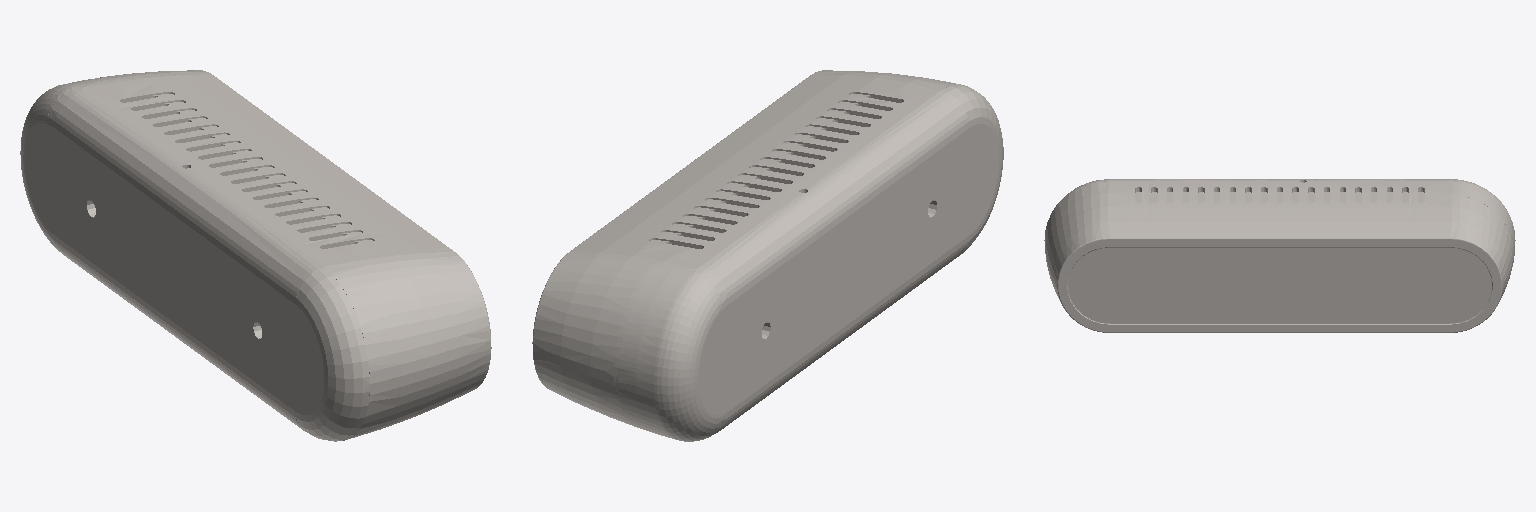
robot.urdf — omove:
<?xml version="1.0" encoding="utf-8"?>
<!-- This URDF was automatically created by SolidWorks to URDF Exporter! Originally created by [author] ([email redacted]) 
     Commit Version: 1.5.1-0-g916b5db  Build Version: 1.5.7152.31018
     For more information, please see http://wiki.ros.org/sw_urdf_exporter -->
<robot name="omove">
  <link name="base_footprint" />
  <joint name="base_joint" type="fixed">
    <parent link="base_footprint" />
    <child link="base_link" />
    <origin rpy="0 0 0" xyz="0 0 0" />
  </joint>

  <link
    name="base_link">
    <inertial>
      <origin
        xyz="0.0021031 0.00024334 0.023555"
        rpy="0 0 0" />
      <mass
        value="8.9957" />
      <inertia
        ixx="0.0064797"
        ixy="2.6634E-06"
        ixz="3.4878E-07"
        iyy="0.03319"
        iyz="-4.9172E-07"
        izz="0.038203" />
    </inertial>
    <visual>
      <origin
        xyz="0 0 0"
        rpy="0 0 0" />
      <geometry>
        <mesh
          filename="package://cartographer_ros/urdf/meshes/base_link.STL" />
      </geometry>
      <material
        name="">
        <color
          rgba="0.75294 0.75294 0.75294 1" />
      </material>
    </visual>
    <collision>
      <origin
        xyz="0 0 0"
        rpy="0 0 0" />
      <geometry>
        <mesh
          filename="package://cartographer_ros/urdf/meshes/base_link.STL" />
      </geometry>
    </collision>
  </link>
  <link
    name="wheel_link_LF">
    <inertial>
      <origin
        xyz="1.0213E-06 -0.0017375 1.8674E-07"
        rpy="0 0 0" />
      <mass
        value="0.28002" />
      <inertia
        ixx="0.00017252"
        ixy="-5.7605E-12"
        ixz="-3.1448E-09"
        iyy="0.00031502"
        iyz="-1.1987E-10"
        izz="0.00017252" />
    </inertial>
    <visual>
      <origin
        xyz="0 0 0"
        rpy="0 0 0" />
      <geometry>
        <mesh
          filename="package://cartographer_ros/urdf/meshes/wheel_link_LF.STL" />
      </geometry>
      <material
        name="">
        <color
          rgba="0.75294 0.75294 0.75294 1" />
      </material>
    </visual>
    <collision>
      <origin
        xyz="0 0 0"
        rpy="0 0 0" />
      <geometry>
        <mesh
          filename="package://cartographer_ros/urdf/meshes/wheel_link_LF.STL" />
      </geometry>
    </collision>
  </link>
  <joint
    name="wheel_joint_LF"
    type="continuous">
    <origin
      xyz="0.175 0.15542 0.012"
      rpy="0 0 0" />
    <parent
      link="base_link" />
    <child
      link="wheel_link_LF" />
    <axis
      xyz="0 1 0" />
  </joint>
  <link
    name="wheel_link_RF">
    <inertial>
      <origin
        xyz="6.7443E-07 0.0017375 -8.1952E-07"
        rpy="0 0 0" />
      <mass
        value="0.28002" />
      <inertia
        ixx="0.00017252"
        ixy="-6.0255E-11"
        ixz="-2.6815E-09"
        iyy="0.00031502"
        iyz="-6.2048E-11"
        izz="0.00017252" />
    </inertial>
    <visual>
      <origin
        xyz="0 0 0"
        rpy="0 0 0" />
      <geometry>
        <mesh
          filename="package://cartographer_ros/urdf/meshes/wheel_link_RF.STL" />
      </geometry>
      <material
        name="">
        <color
          rgba="0.75294 0.75294 0.75294 1" />
      </material>
    </visual>
    <collision>
      <origin
        xyz="0 0 0"
        rpy="0 0 0" />
      <geometry>
        <mesh
          filename="package://cartographer_ros/urdf/meshes/wheel_link_RF.STL" />
      </geometry>
    </collision>
  </link>
  <joint
    name="wheel_joint_RF"
    type="continuous">
    <origin
      xyz="0.175 -0.15542 0.012"
      rpy="0 0 0" />
    <parent
      link="base_link" />
    <child
      link="wheel_link_RF" />
    <axis
      xyz="0 -1 0" />
  </joint>
  <link
    name="wheel_link_LB">
    <inertial>
      <origin
        xyz="-5.2916E-07 -0.0017375 -9.5409E-07"
        rpy="0 0 0" />
      <mass
        value="0.28002" />
      <inertia
        ixx="0.00017252"
        ixy="-5.2924E-11"
        ixz="3.3134E-09"
        iyy="0.00031502"
        iyz="3.5498E-11"
        izz="0.00017252" />
    </inertial>
    <visual>
      <origin
        xyz="0 0 0"
        rpy="0 0 0" />
      <geometry>
        <mesh
          filename="package://cartographer_ros/urdf/meshes/wheel_link_LB.STL" />
      </geometry>
      <material
        name="">
        <color
          rgba="0.75294 0.75294 0.75294 1" />
      </material>
    </visual>
    <collision>
      <origin
        xyz="0 0 0"
        rpy="0 0 0" />
      <geometry>
        <mesh
          filename="package://cartographer_ros/urdf/meshes/wheel_link_LB.STL" />
      </geometry>
    </collision>
  </link>
  <joint
    name="wheel_joint_LB"
    type="continuous">
    <origin
      xyz="-0.175 0.15542 0.012"
      rpy="0 0 0" />
    <parent
      link="base_link" />
    <child
      link="wheel_link_LB" />
    <axis
      xyz="0 1 0" />
  </joint>
  <link
    name="wheel_link_RB">
    <inertial>
      <origin
        xyz="8.5335E-07 0.0017375 -5.9736E-07"
        rpy="0 0 0" />
      <mass
        value="0.28002" />
      <inertia
        ixx="0.00017253"
        ixy="-3.3926E-11"
        ixz="4.3758E-11"
        iyy="0.00031502"
        iyz="-1.2838E-10"
        izz="0.00017252" />
    </inertial>
    <visual>
      <origin
        xyz="0 0 0"
        rpy="0 0 0" />
      <geometry>
        <mesh
          filename="package://cartographer_ros/urdf/meshes/wheel_link_RB.STL" />
      </geometry>
      <material
        name="">
        <color
          rgba="0.75294 0.75294 0.75294 1" />
      </material>
    </visual>
    <collision>
      <origin
        xyz="0 0 0"
        rpy="0 0 0" />
      <geometry>
        <mesh
          filename="package://cartographer_ros/urdf/meshes/wheel_link_RB.STL" />
      </geometry>
    </collision>
  </link>
  <joint
    name="wheel_joint_RB"
    type="continuous">
    <origin
      xyz="-0.175 -0.15542 0.012"
      rpy="0 0 0" />
    <parent
      link="base_link" />
    <child
      link="wheel_link_RB" />
    <axis
      xyz="0 -1 0" />
  </joint>
  <link
    name="laser_link">
    <inertial>
      <origin
        xyz="-0.014867 0.0024602 -0.01678"
        rpy="0 0 0" />
      <mass
        value="0.063786" />
      <inertia
        ixx="1.7112E-05"
        ixy="2.8944E-09"
        ixz="4.4587E-07"
        iyy="2.0808E-05"
        iyz="-1.5142E-08"
        izz="3.568E-05" />
    </inertial>
    <visual>
      <origin
        xyz="0 0 0"
        rpy="0 0 0" />
      <geometry>
        <mesh
          filename="package://cartographer_ros/urdf/meshes/laser_link.STL" />
      </geometry>
      <material
        name="">
        <color
          rgba="0.75294 0.75294 0.75294 1" />
      </material>
    </visual>
    <collision>
      <origin
        xyz="0 0 0"
        rpy="0 0 0" />
      <geometry>
        <mesh
          filename="package://cartographer_ros/urdf/meshes/laser_link.STL" />
      </geometry>
    </collision>
  </link>
  <joint
    name="laser_joint"
    type="fixed">
    <origin
      xyz="0.032502 -0.0017362 0.14767"
      rpy="0 0 0" />
    <parent
      link="base_link" />
    <child
      link="laser_link" />
    <axis
      xyz="0 0 0" />
  </joint>
  <link
    name="depth_link">
    <inertial>
      <origin
        xyz="-0.0042269 0.0032377 -0.0020974"
        rpy="0 0 0" />
      <mass
        value="0.04821" />
      <inertia
        ixx="2.7396E-05"
        ixy="-4.2598E-07"
        ixz="7.55E-09"
        iyy="3.3506E-06"
        iyz="2.1149E-09"
        izz="2.6657E-05" />
    </inertial>
    <visual>
      <origin
        xyz="0 0 0"
        rpy="0 0 0" />
      <geometry>
        <mesh
          filename="package://cartographer_ros/urdf/meshes/depth_link.STL" />
      </geometry>
      <material
        name="">
        <color
          rgba="0.77647 0.75686 0.73725 1" />
      </material>
    </visual>
    <collision>
      <origin
        xyz="0 0 0"
        rpy="0 0 0" />
      <geometry>
        <mesh
          filename="package://cartographer_ros/urdf/meshes/depth_link.STL" />
      </geometry>
    </collision>
  </link>
  <joint
    name="depth_joint"
    type="fixed">
    <origin
      xyz="0.18068 -0.0032372 0.13055"
      rpy="0 0 0" />
    <parent
      link="base_link" />
    <child
      link="depth_link" />
    <axis
      xyz="0 0 0" />
  </joint>
  <link
    name="imu_link">
    <inertial>
      <origin
        xyz="0.026867 -7.317E-05 -0.0012683"
        rpy="0 0 0" />
      <mass
        value="0.013291" />
      <inertia
        ixx="3.4375E-06"
        ixy="3.7116E-08"
        ixz="-6.3445E-11"
        iyy="5.1704E-06"
        iyz="-3.602E-12"
        izz="8.5546E-06" />
    </inertial>
    <visual>
      <origin
        xyz="0 0 0"
        rpy="0 0 0" />
      <geometry>
        <mesh
          filename="package://cartographer_ros/urdf/meshes/imu_link.STL" />
      </geometry>
      <material
        name="">
        <color
          rgba="0.75294 0.75294 0.75294 1" />
      </material>
    </visual>
    <collision>
      <origin
        xyz="0 0 0"
        rpy="0 0 0" />
      <geometry>
        <mesh
          filename="package://cartographer_ros/urdf/meshes/imu_link.STL" />
      </geometry>
    </collision>
  </link>
  <joint
    name="imu_joint"
    type="fixed">
    <origin
      xyz="-0.011302 3.3608E-05 0.04817"
      rpy="0 0 0" />
    <parent
      link="base_link" />
    <child
      link="imu_link" />
    <axis
      xyz="0 0 0" />
  </joint>
</robot>

--- Render facts (derived) ---
Views: 3 orthographic renders of the robot side by side, from view 1: azimuth 30°, elevation 25°; view 2: azimuth 150°, elevation 25°; view 3: azimuth 270°, elevation 25°.
Robot: omove — 9 links, 8 joints (4 continuous, 4 fixed); root link base_footprint; default pose: all joints at 0.
Visible links, largest first — view 1: depth_link; view 2: depth_link; view 3: depth_link.
Boxes of the visible links, x1=… form: depth_link: x1=20, y1=70, x2=491, y2=441; depth_link: x1=532, y1=70, x2=1003, y2=441; depth_link: x1=1044, y1=179, x2=1515, y2=332.
Size in the robot's own frame: 0.025 by 0.09 by 0.025 metres.
Meshes: 8 distinct files referenced, 1 mesh visuals loaded (1 binary STL); not drawn: 7 (reference not matched to a file when rendering).